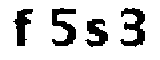3: (118, 5, 148, 51)
5: (48, 5, 80, 51)
f: (10, 6, 38, 50)
s: (83, 16, 109, 52)
